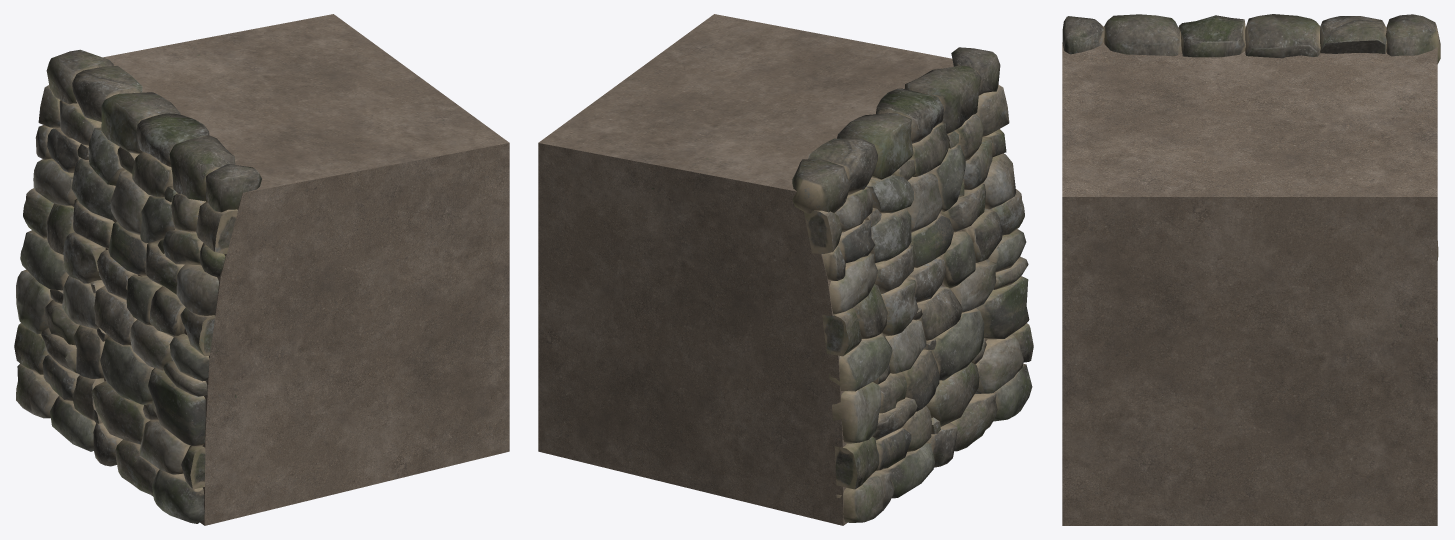
Rendered from SM_Gidan01a.fbx.
The picture shows the model from 3 angles, left to right: view 1: azimuth 30°, elevation 25°; view 2: azimuth 150°, elevation 25°; view 3: azimuth 270°, elevation 25°; orthographic projection. The views are drawn at different scales.
Visible parts, largest first — view 1: SM_Gidan01a; view 2: SM_Gidan01a; view 3: SM_Gidan01a.
Boxes of the visible parts, box(x1,y1,x2,y2) form: SM_Gidan01a: box(14, 14, 509, 525); SM_Gidan01a: box(538, 14, 1033, 525); SM_Gidan01a: box(1062, 14, 1440, 525).
Size of the model in its own units: 322 by 303 by 323.
Materials: 2 (2 with a texture image).
